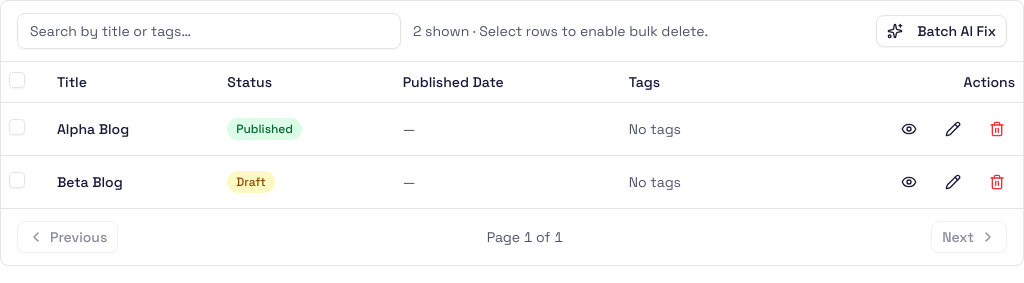
admin bulk selection tables › filters blog rows by title and exposes previous/next pagination controls
The width and height of the screenshot is (1024, 283).
Type "beta" into the field named "Search blog titles" at {"x": 209, "y": 31}, box [17,13,401,49]
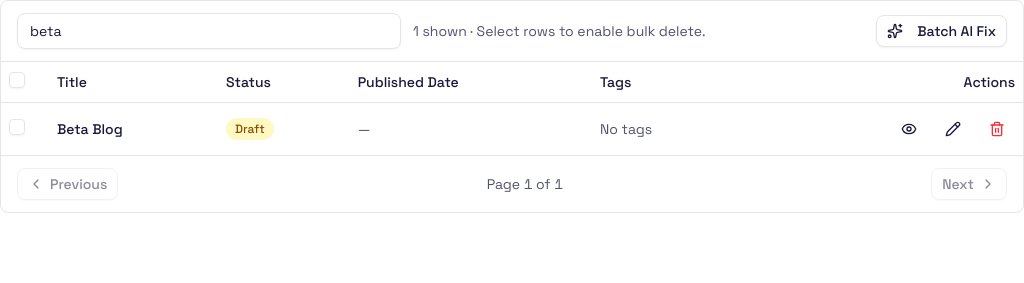
Expected: the link "Beta Blog" is shown, [57,120,123,138]
Result: the link "Alpha Blog" is gone
